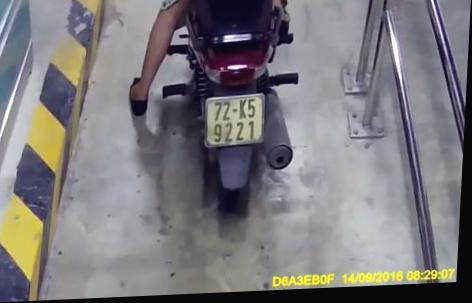License_Plate: (197, 91, 272, 152)
